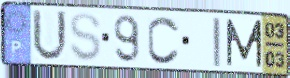9: (112, 14, 142, 65)
C: (146, 14, 182, 66)
I: (210, 16, 223, 69)
M: (224, 17, 264, 69)
S: (68, 11, 103, 64)
U: (31, 8, 70, 64)
